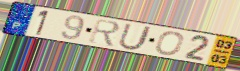1: (35, 10, 50, 37)
2: (183, 35, 211, 63)
9: (59, 15, 86, 41)
O: (153, 31, 186, 56)
R: (87, 18, 121, 49)
U: (116, 22, 154, 51)
